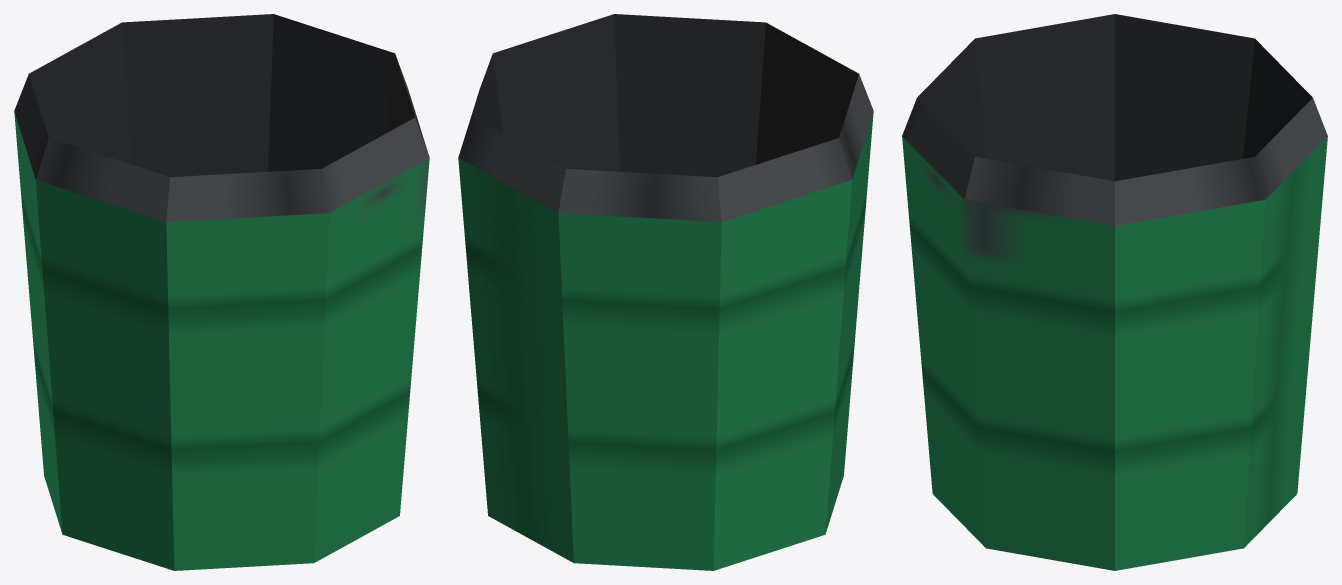
File: Garbage_Can.obj
3 views of the same model, side by side, from view 1: azimuth 30°, elevation 25°; view 2: azimuth 150°, elevation 25°; view 3: azimuth 270°, elevation 25° (orthographic).
Visible parts, largest first — view 1: Garbage_Can.001; view 2: Garbage_Can.001; view 3: Garbage_Can.001.
Boxes of the visible parts, x1,y1,x2,y2 form: Garbage_Can.001: (14, 14, 429, 570); Garbage_Can.001: (458, 14, 873, 570); Garbage_Can.001: (902, 14, 1327, 570).
Bounding box in the file's own units: 0.7942 × 0.8153 × 0.7942.
